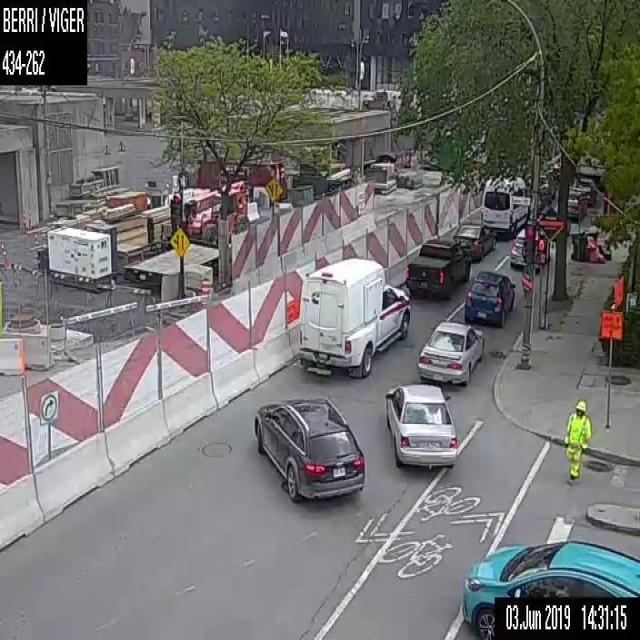construction: (600, 304, 622, 434), (202, 278, 212, 305)
pedestrian: (564, 397, 591, 483)
vehicle: (460, 536, 639, 639), (295, 256, 412, 378), (252, 392, 364, 501), (384, 382, 456, 470), (416, 318, 486, 389), (404, 238, 470, 298), (480, 174, 533, 236), (462, 268, 517, 324), (508, 226, 553, 268), (450, 222, 498, 258), (568, 190, 588, 222)
